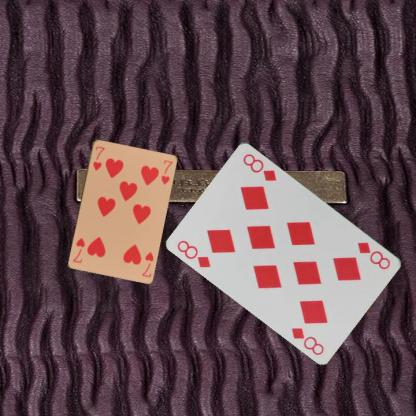7h: (90, 143, 106, 172), (139, 249, 155, 278)
8d: (355, 239, 392, 271), (175, 238, 212, 270)
